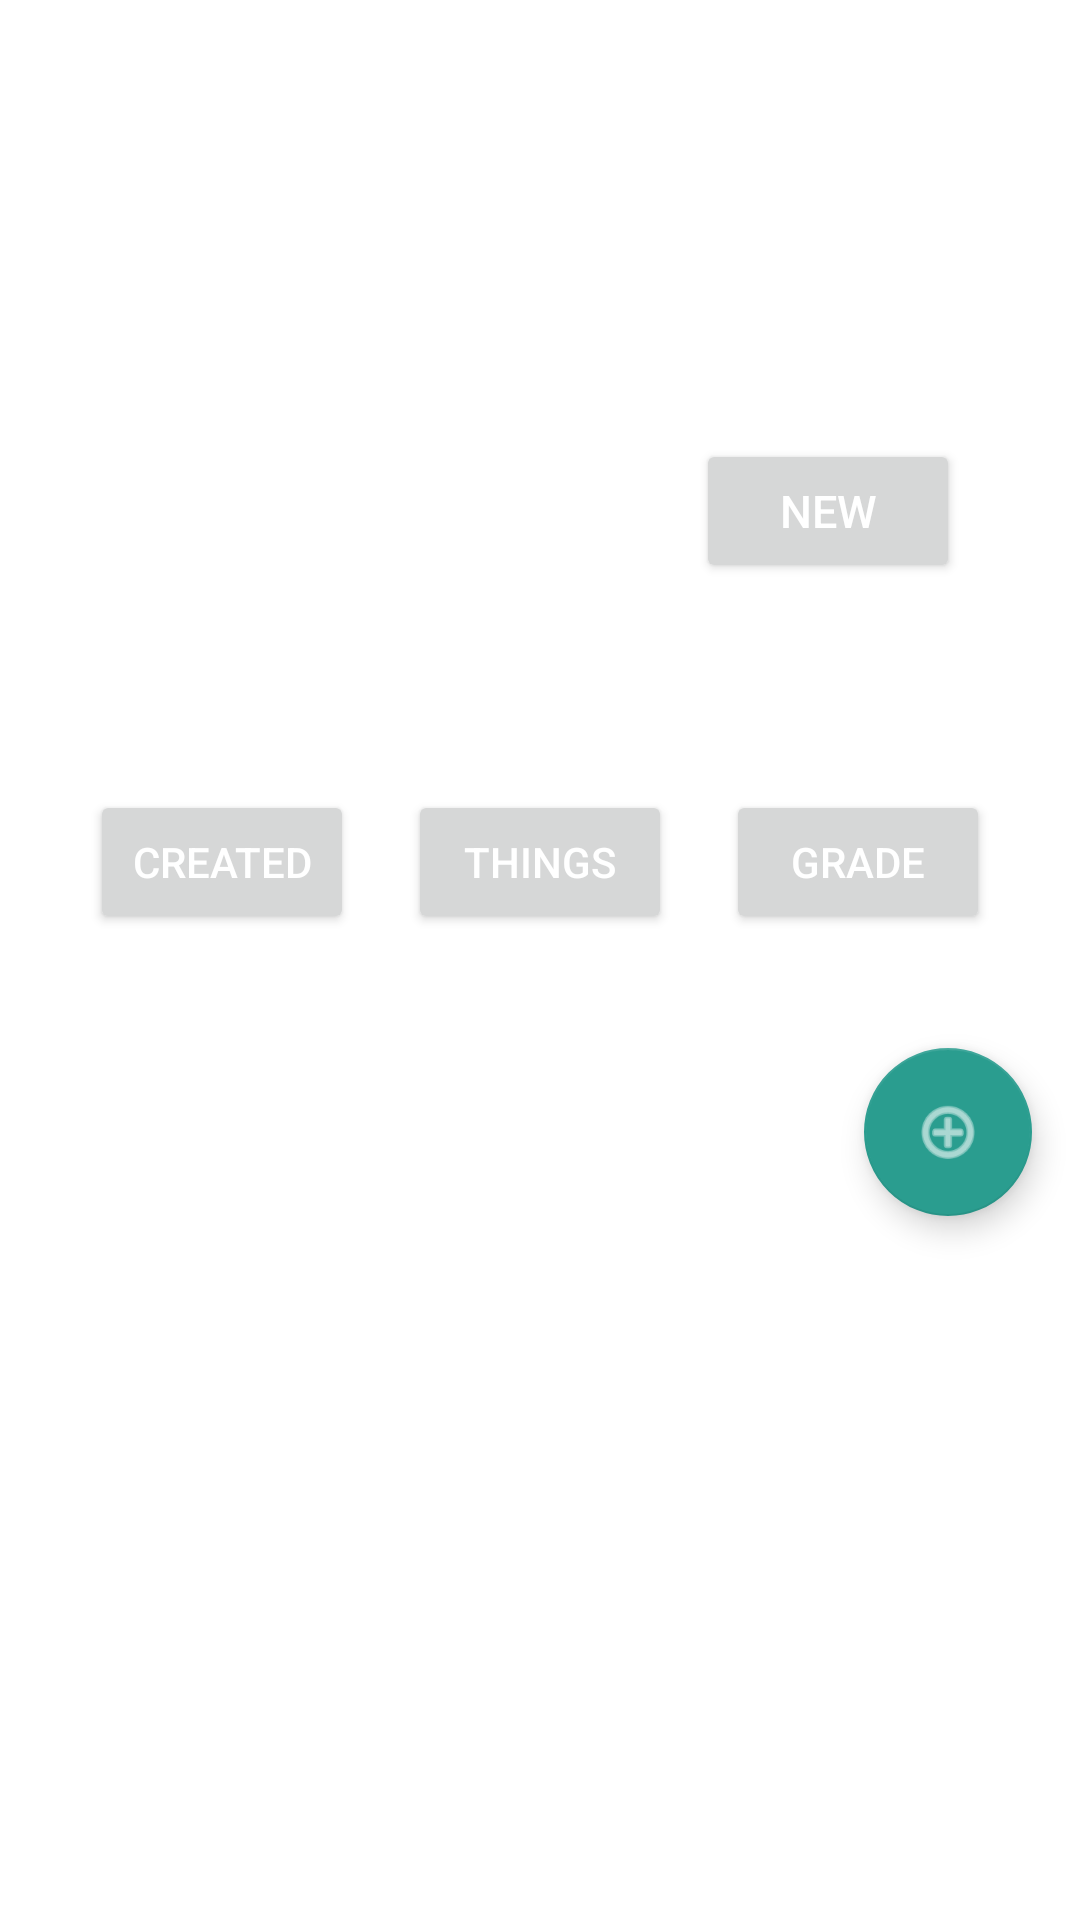

Screen size 1080px×1920px. Icon name, then its center in pixels as (x,y):
add: (948,1132)
